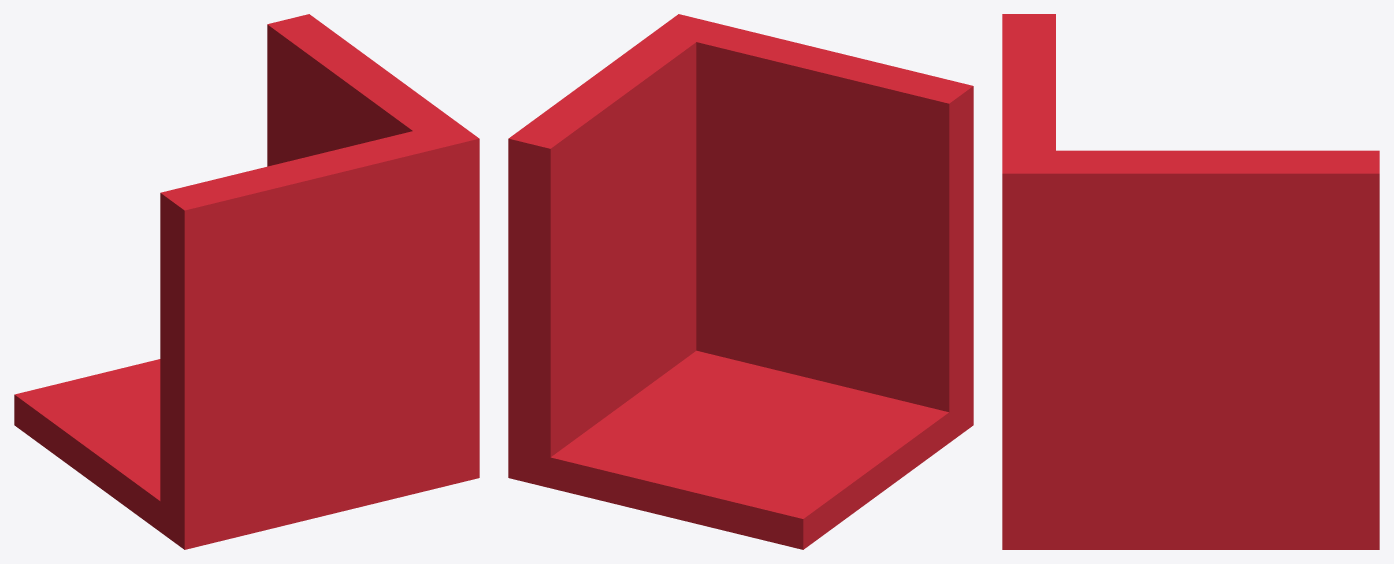
3 renders of one model, left to right at view 1: azimuth 30°, elevation 25°; view 2: azimuth 150°, elevation 25°; view 3: azimuth 270°, elevation 25°, orthographic. The views are drawn at different scales.
Parts seen in each view (by area): view 1: Wall, floor; view 2: Wall, floor; view 3: Wall, floor.
Part boxes in pixels (box(x1,y1,x2,y2)): Wall: box(160, 14, 479, 518); floor: box(14, 359, 479, 549); Wall: box(508, 14, 973, 457); floor: box(508, 350, 973, 549); Wall: box(1002, 14, 1379, 515); floor: box(1002, 515, 1379, 549).
Size of the model in its own units: 5 by 5 by 5.5.
